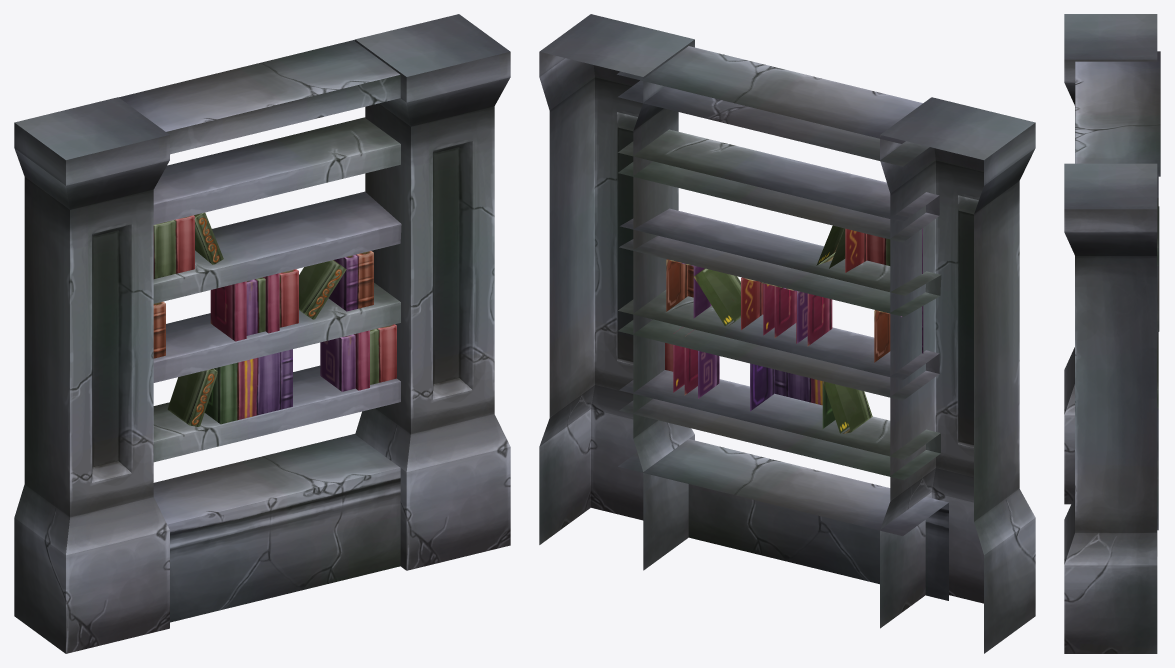
Rendered from bookcase.FBX.
The picture shows the model from 3 angles, left to right: view 1: azimuth 30°, elevation 25°; view 2: azimuth 150°, elevation 25°; view 3: azimuth 270°, elevation 25°; orthographic projection. The views are drawn at different scales.
Visible parts, largest first — view 1: bookcase; view 2: bookcase; view 3: bookcase.
Boxes of the visible parts, bbox=[...] form: bookcase: bbox=[14, 14, 510, 653]; bookcase: bbox=[539, 14, 1035, 653]; bookcase: bbox=[1064, 14, 1160, 653].
Bounding box in the file's own units: 94.02 × 99.75 × 19.56.
